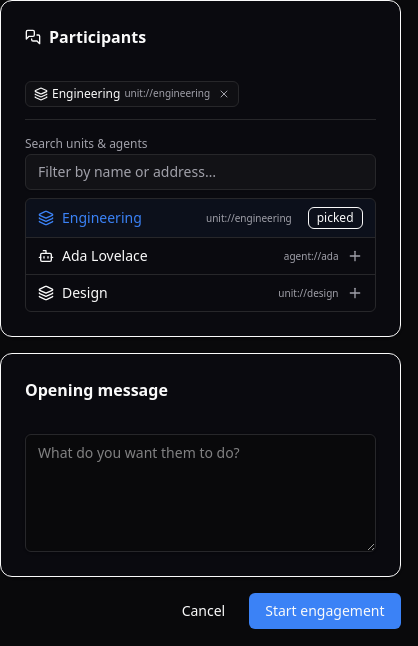
Test: NewEngagementForm — pre-population (#1456) › a seeded participant is removable before submit
Click the button with test id "engagement-new-chip-remove-unit-engineering" at (224, 94), box top-left (218, 88), bottom-right (230, 100)
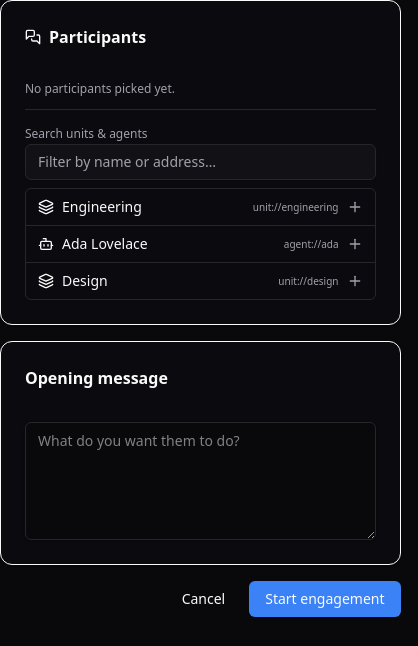
Result: the element with test id "engagement-new-chip-unit-engineering" is gone
